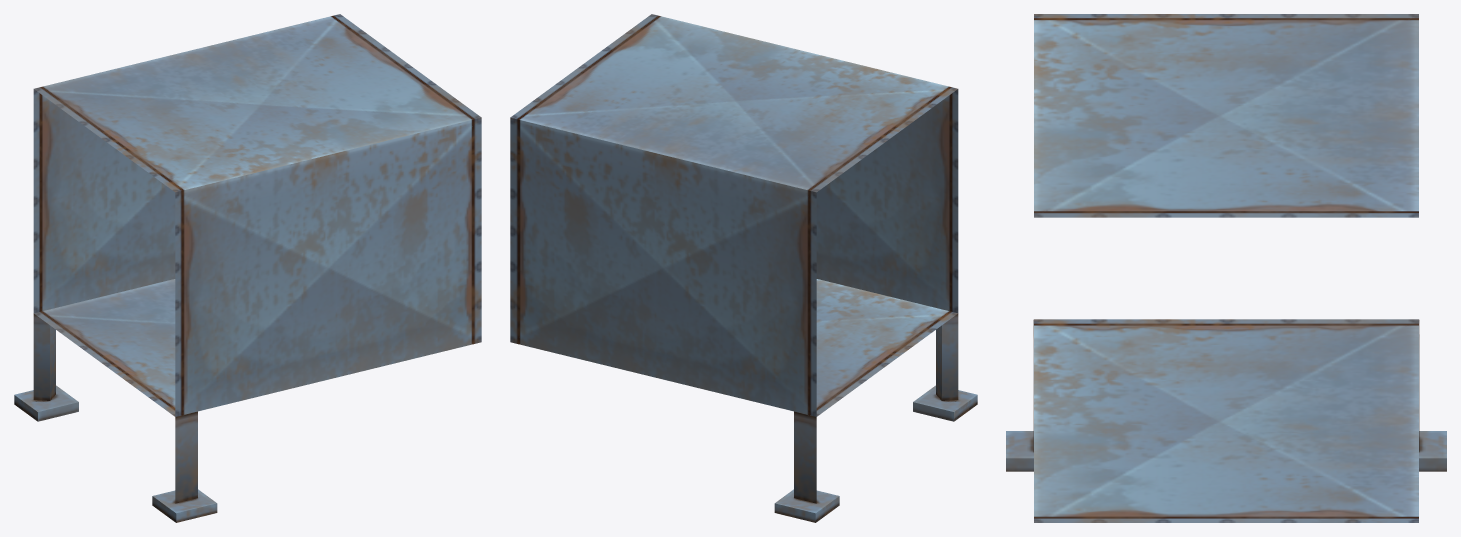
Rendered from airDuct01_mid.fbx.
3 views of the same model, side by side, from view 1: azimuth 30°, elevation 25°; view 2: azimuth 150°, elevation 25°; view 3: azimuth 270°, elevation 25° (orthographic). The views are drawn at different scales.
Visible parts, largest first — view 1: airDuct01_mid; view 2: airDuct01_mid; view 3: airDuct01_mid.
Part boxes in pixels (left/top/right/bottom): airDuct01_mid: left=14, top=14, right=481, bottom=522; airDuct01_mid: left=510, top=14, right=977, bottom=522; airDuct01_mid: left=1006, top=14, right=1446, bottom=522.
Size of the model in its own units: 103 by 100 by 91.53.
